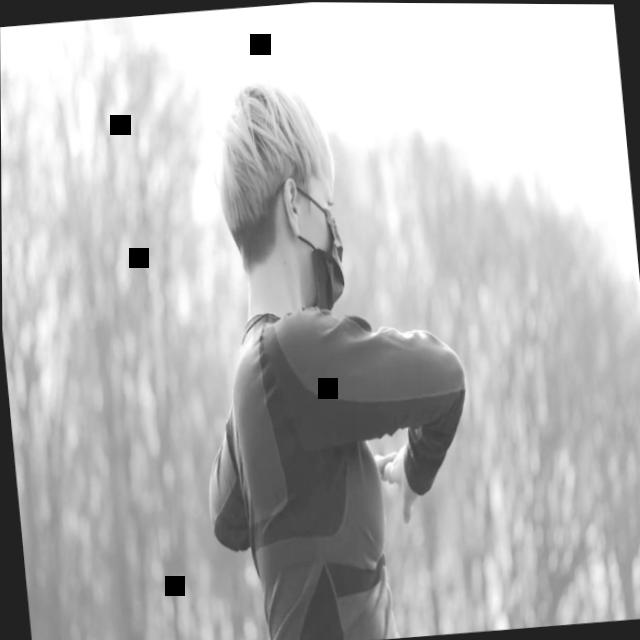Mask: (289, 170, 348, 315)
